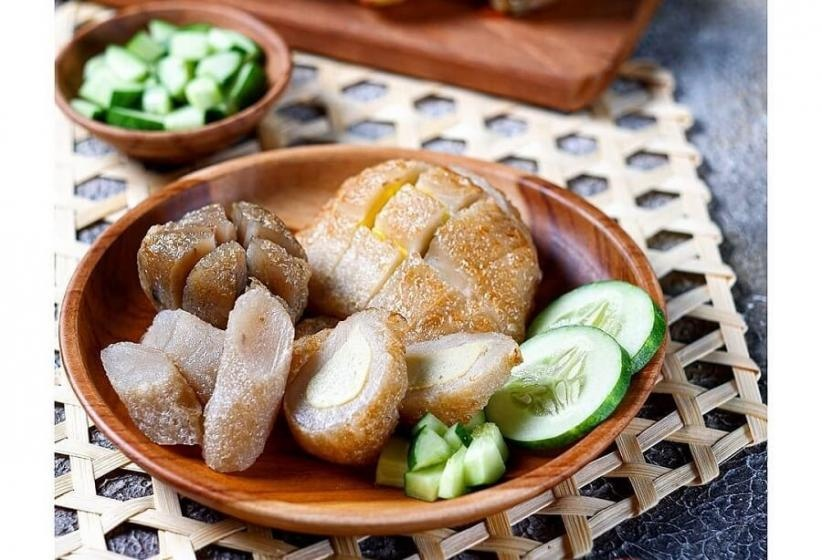pempek: (97, 159, 542, 474)
